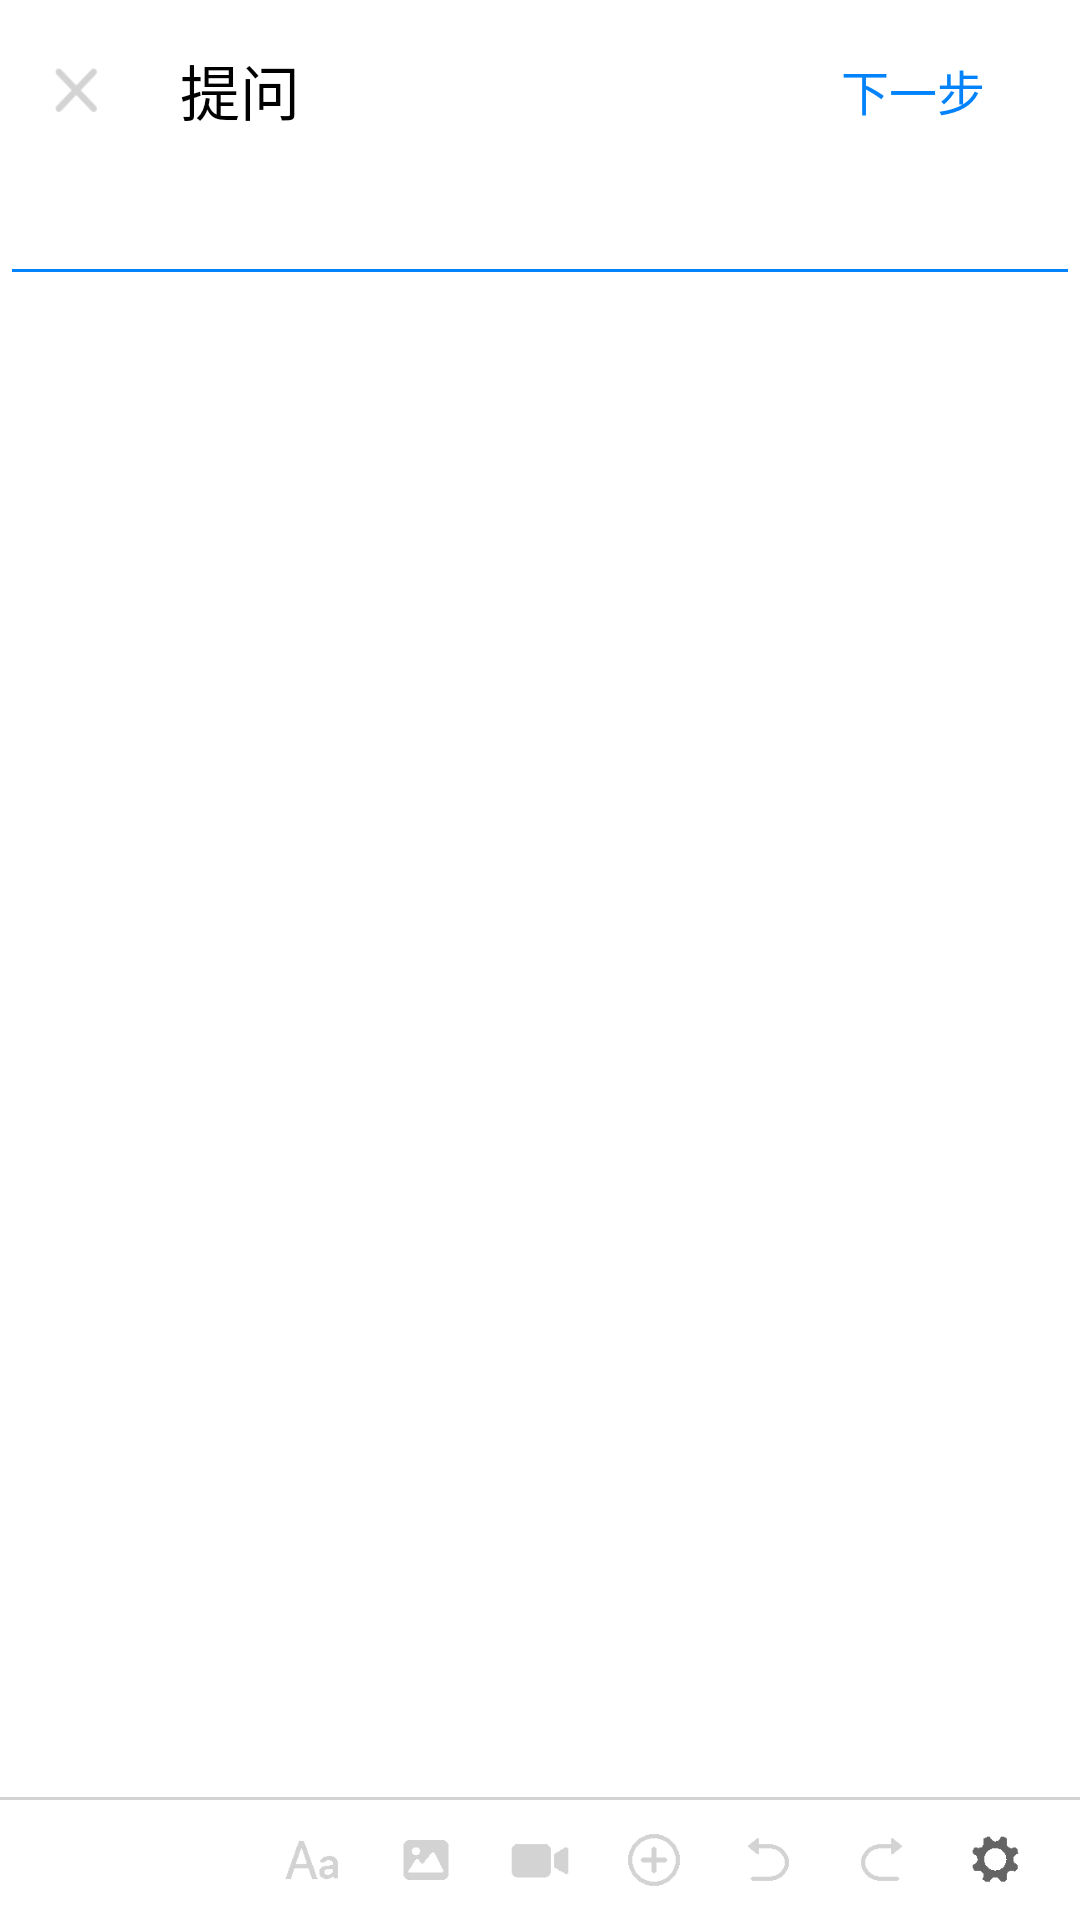

Locate icon controls on the screen. Image size 1080px×1920px, boxes as bbox(x1, y1, x2, y2).
close: bbox(56, 69, 97, 112)
question editor aa: bbox(286, 1841, 338, 1879)
question editor add: bbox(628, 1834, 680, 1886)
question editor gallery: bbox(403, 1840, 449, 1880)
question editor redo: bbox(861, 1838, 902, 1881)
question editor settings: bbox(972, 1836, 1019, 1882)
question editor undo: bbox(748, 1838, 789, 1881)
question editor video: bbox(512, 1844, 568, 1878)
